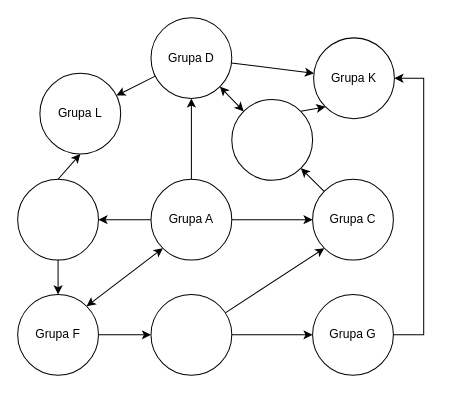
The diagram is 449 pixels wide and 393 high, and some of its shapes have lost their labels. The centre of each missing label's shape, as x and y in pixels:
Grupa B: the point at 57,219
Grupa E: the point at 191,334
Grupa J: the point at 272,139
